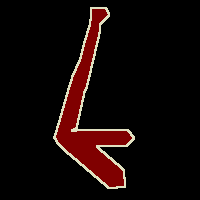tie: (54, 8, 134, 188)
